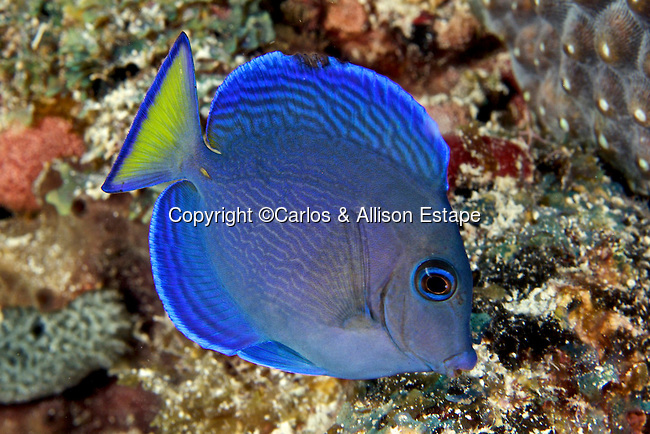Acanthurus_coeruleus: (99, 29, 483, 382)
